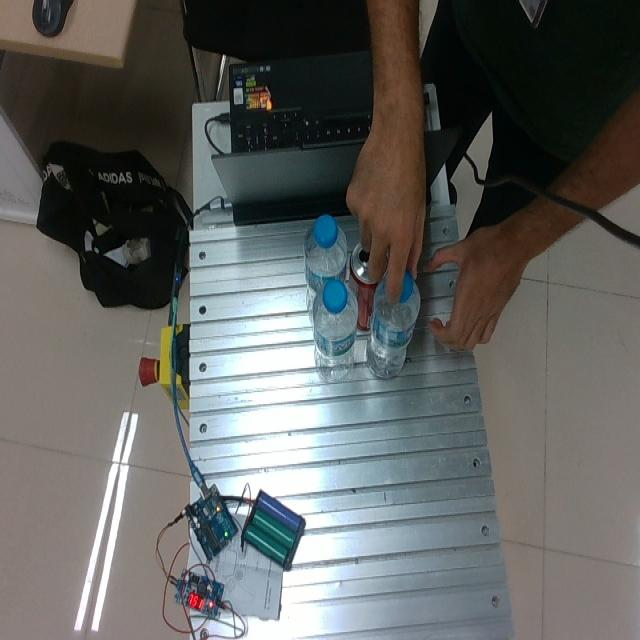coca: (349, 240, 383, 331)
lavie: (366, 274, 417, 382), (311, 276, 357, 383), (303, 214, 348, 318)
